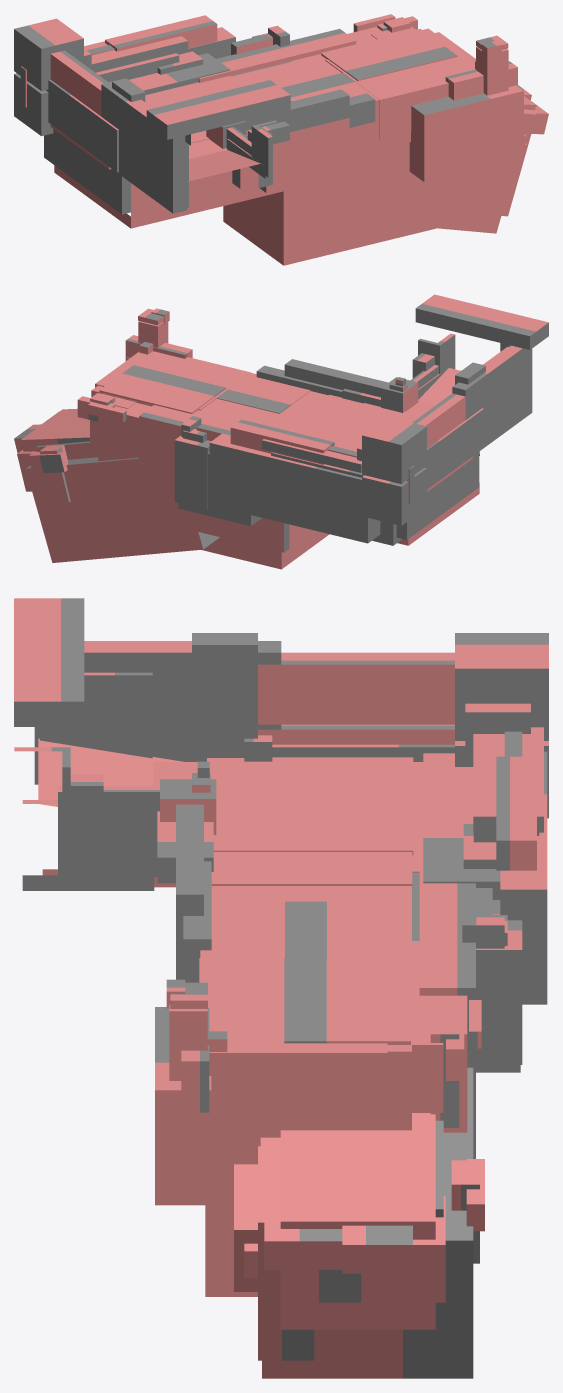
Rendered from S_Envi_Train_Building_Merge_09.gltf.
3 renders of one model, top to bottom at view 1: azimuth 30°, elevation 25°; view 2: azimuth 150°, elevation 25°; view 3: azimuth 270°, elevation 25°, orthographic. The views are drawn at different scales.
Parts seen in each view (by area): view 1: S_Envi_Train_Building_Merge_09; view 2: S_Envi_Train_Building_Merge_09; view 3: S_Envi_Train_Building_Merge_09.
Boxes of the visible parts, x1,y1,x2,y2 form: S_Envi_Train_Building_Merge_09: [14, 14, 548, 265]; S_Envi_Train_Building_Merge_09: [14, 294, 548, 569]; S_Envi_Train_Building_Merge_09: [14, 598, 548, 1378].
Bounding box in the file's own units: 24.26 × 13.06 × 14.24.
